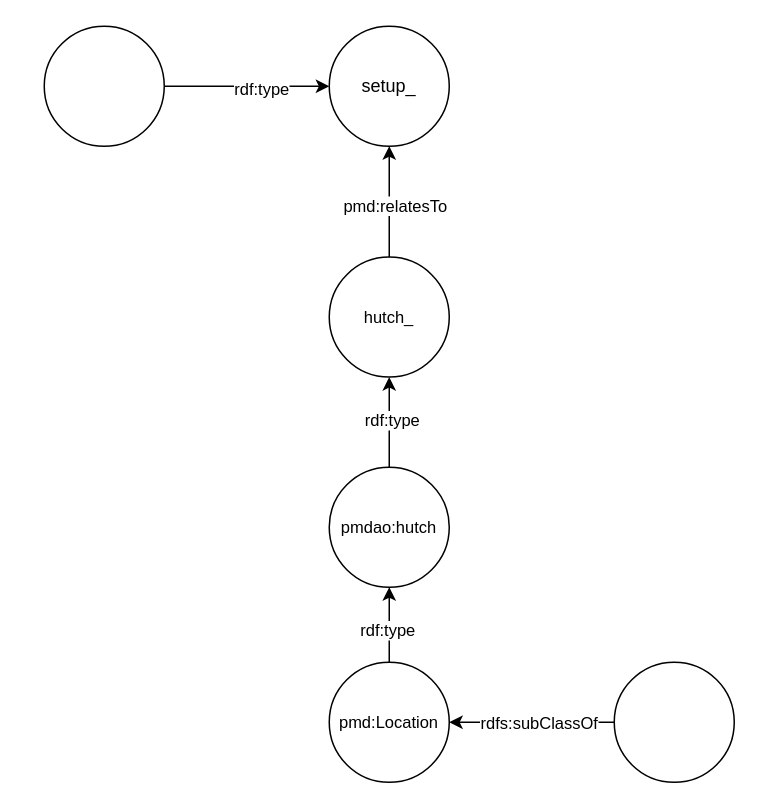
This 764x809 diagram has some shape labels left out. The box of each missing label's shape, as (x1, y1, x2, y2) in pixels:
pmd:ProcessingNode: (43, 25, 164, 146)
pmd:ValueObject: (613, 661, 734, 782)
